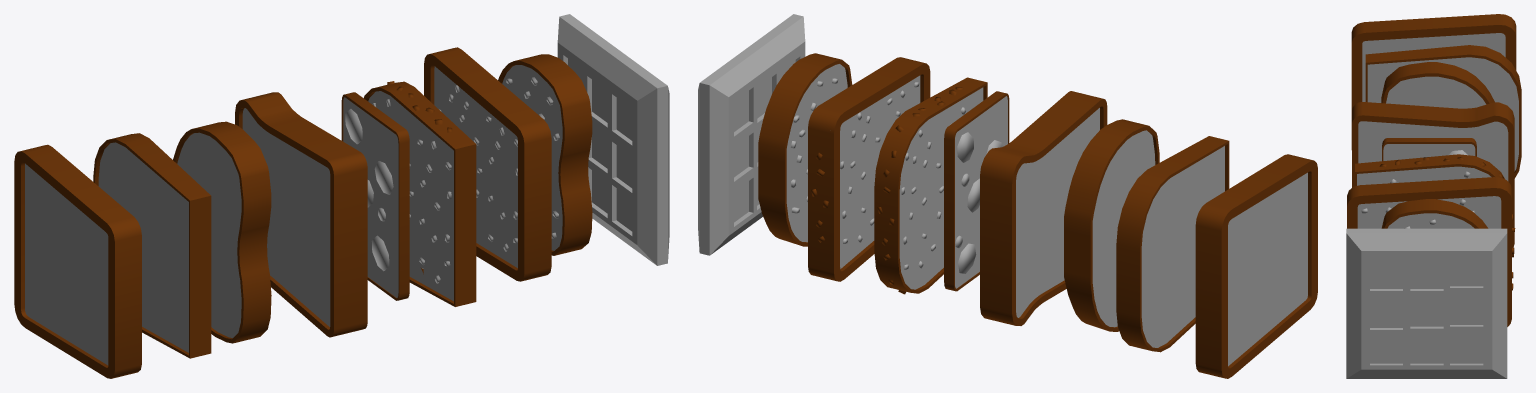
Rendered from Wszystkie chlebki fbx.fbx.
3 views of the same model, side by side, from view 1: azimuth 30°, elevation 25°; view 2: azimuth 150°, elevation 25°; view 3: azimuth 270°, elevation 25° (orthographic). The views are drawn at different scales.
Visible parts, largest first — view 1: chlebek_2, chlebek_1, chlebek_ziarno_2, chlebek_special_3, chlebek_3, chlebek_ziarno_1, chlebek_4, chlebek_ziarno_3, chlebek_special_2; view 2: chlebek_2, chlebek_1, chlebek_3, chlebek_ziarno_2, chlebek_special_3, chlebek_ziarno_1, chlebek_4, chlebek_ziarno_3, chlebek_special_2; view 3: chlebek_special_3, chlebek_1, chlebek_2, chlebek_ziarno_2, chlebek_3, chlebek_4, chlebek_ziarno_1, chlebek_ziarno_3, chlebek_special_2.
Part boxes in pixels (x1,y1,x2,y2): chlebek_2: (14,144,141,378); chlebek_1: (235,92,367,337); chlebek_ziarno_2: (424,47,551,281); chlebek_special_3: (557,14,669,265); chlebek_3: (93,133,211,358); chlebek_ziarno_1: (364,81,476,306); chlebek_4: (173,121,271,343); chlebek_ziarno_3: (498,54,592,255); chlebek_special_2: (341,92,409,300); chlebek_2: (1195,154,1317,378); chlebek_1: (980,91,1107,325); chlebek_3: (1116,136,1229,352); chlebek_ziarno_2: (808,57,930,281); chlebek_special_3: (698,14,805,255); chlebek_ziarno_1: (874,77,987,294); chlebek_4: (1064,119,1159,331); chlebek_ziarno_3: (758,53,852,246); chlebek_special_2: (944,91,1009,291); chlebek_special_3: (1346,228,1507,378); chlebek_1: (1352,102,1514,247); chlebek_2: (1351,14,1516,149); chlebek_ziarno_2: (1347,177,1515,326); chlebek_3: (1365,45,1521,178); chlebek_4: (1381,62,1494,108); chlebek_ziarno_1: (1355,154,1504,186); chlebek_ziarno_3: (1381,199,1488,228); chlebek_special_2: (1382,138,1476,161).
Bounding box in the file's own units: 660 × 226 × 218.
